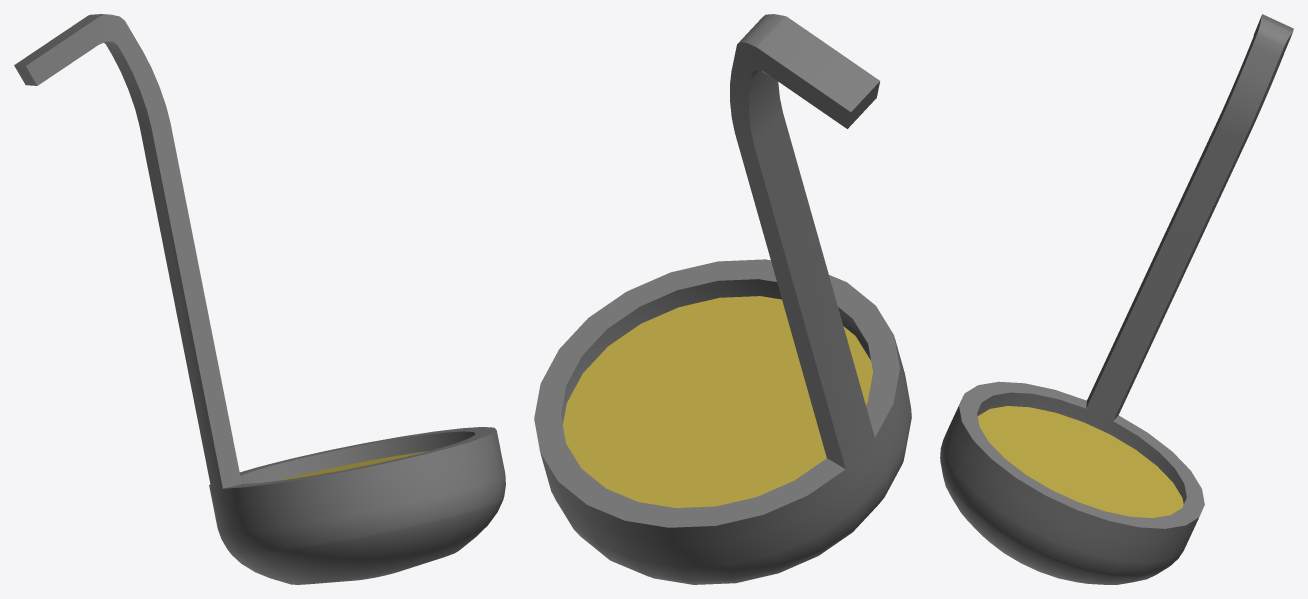
Rendered from Cucharon.fbx.
3 views of the same model, side by side, from view 1: azimuth 30°, elevation 25°; view 2: azimuth 150°, elevation 25°; view 3: azimuth 270°, elevation 25° (orthographic). The views are drawn at different scales.
Parts seen in each view (by area): view 1: Cucharon; view 2: Cucharon, mijoCuchara; view 3: Cucharon, mijoCuchara.
Part boxes in pixels (<box>): Cucharon: <box>14,14,505,584</box>; Cucharon: <box>534,14,911,584</box>; mijoCuchara: <box>563,296,872,507</box>; Cucharon: <box>940,14,1293,584</box>; mijoCuchara: <box>978,406,1183,517</box>.
Size of the model in its own units: 0.2884 by 0.4117 by 0.2739.
